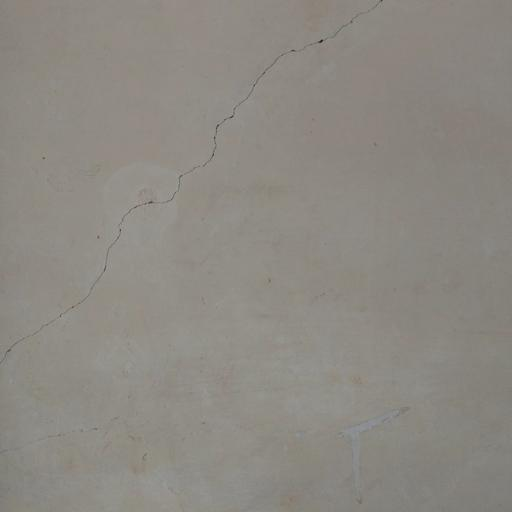minor_crack: (0, 0, 388, 366)
